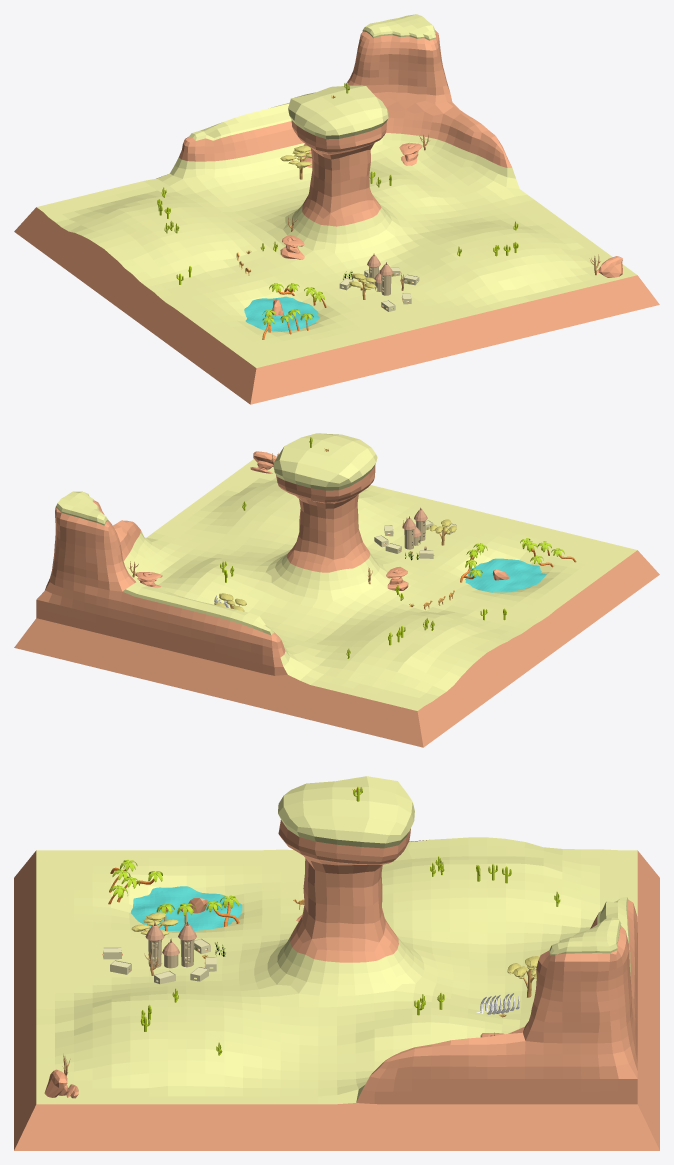
Rendered from Desert.fbx.
The picture shows the model from 3 angles, top to bottom: view 1: azimuth 30°, elevation 25°; view 2: azimuth 150°, elevation 25°; view 3: azimuth 270°, elevation 25°; orthographic projection. The views are drawn at different scales.
Visible parts, largest first — view 1: Cube.003, Cube, Plane, Cylinder_114; view 2: Cube.003, Cube, Plane, Cylinder_114; view 3: Cube.003, Cube, Plane, Cylinder_114, Icosphere_013.002, Icosphere_025.001.
Part boxes in pixels (box(x1,y1,x2,y2)): Cube.003: box(36, 14, 637, 367); Cube: box(14, 30, 659, 404); Plane: box(244, 296, 319, 331); Cylinder_114: box(367, 253, 393, 295); Cube.003: box(56, 433, 637, 710); Cube: box(14, 465, 659, 747); Plane: box(465, 558, 546, 592); Cylinder_114: box(402, 507, 427, 549); Cube.003: box(36, 776, 637, 1104); Cube: box(14, 820, 659, 1150); Plane: box(130, 886, 242, 931); Cylinder_114: box(145, 922, 196, 968); Icosphere_013.002: box(44, 1069, 78, 1098); Icosphere_025.001: box(507, 956, 539, 997).
Bounding box in the file's own units: 9056 × 3708 × 9056.
